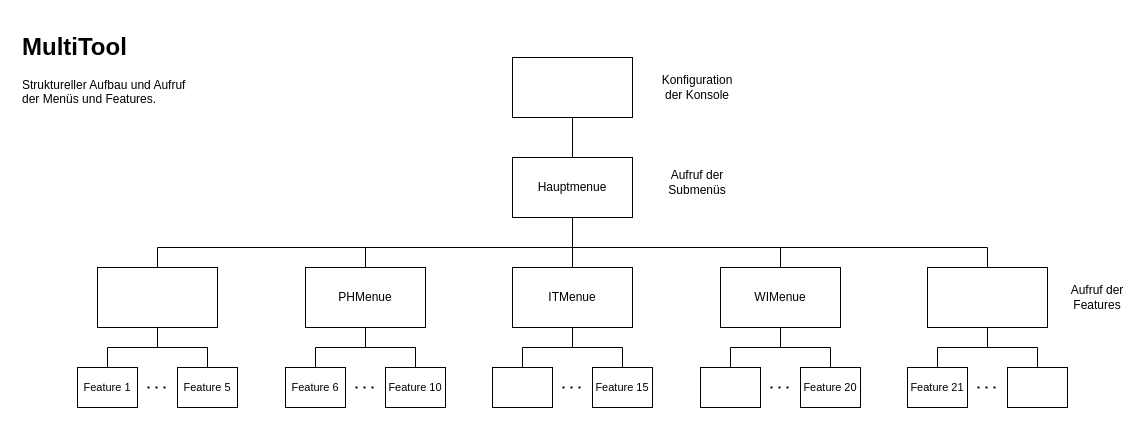
The diagram is 1144 pixels wide and 425 high, and some of its shapes have lost their labels. Each missing label, with the centre of its shape:
ETMenue: [157,297]
Feature 11: [522,387]
Feature 16: [730,387]
Feature 25: [1037,387]
Main: [572,87]
MAMenue: [987,297]
